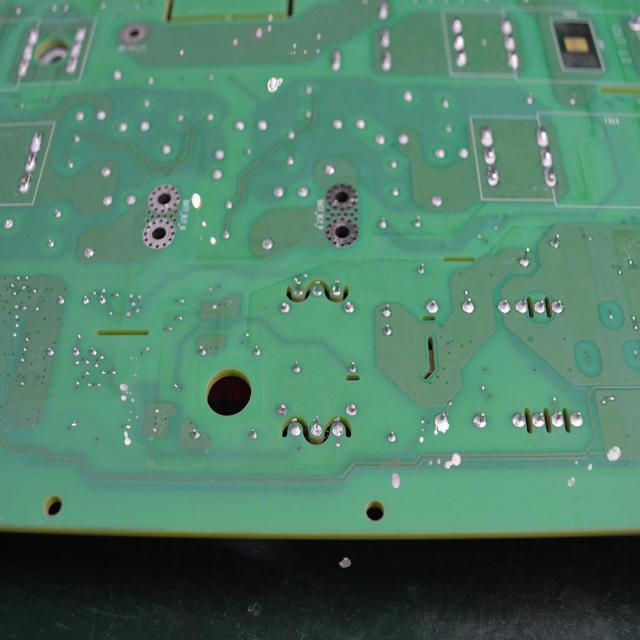spillover: (118, 378, 138, 448), (562, 457, 596, 487), (427, 448, 464, 473), (263, 72, 286, 94), (190, 188, 203, 211)
